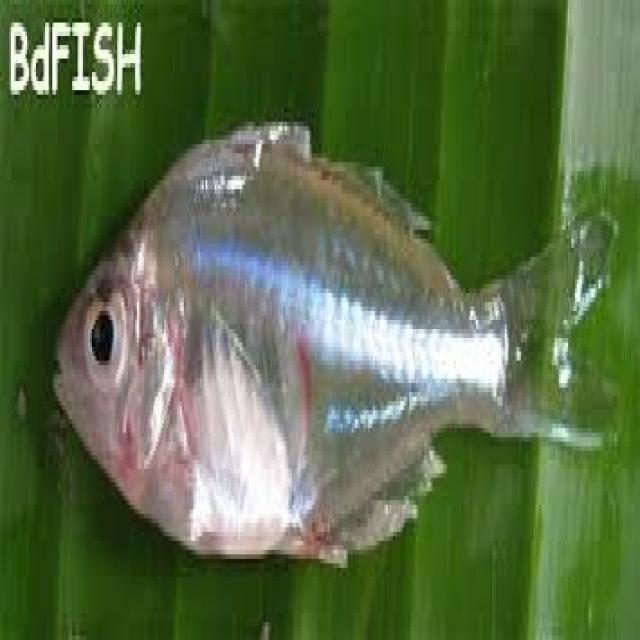Glass-Perchlet: (16, 54, 640, 595)
